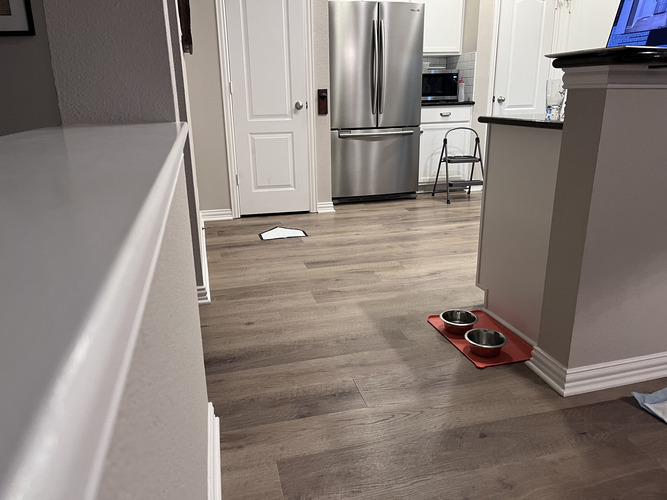homeplate: (259, 225, 306, 240)
